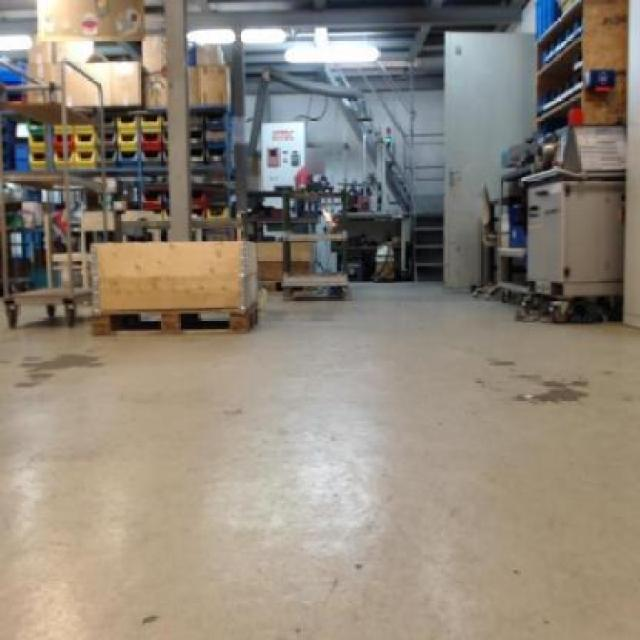pallet: (82, 294, 268, 345)
